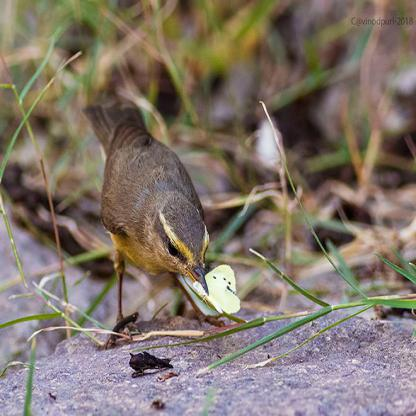Burung: (79, 96, 232, 335)
